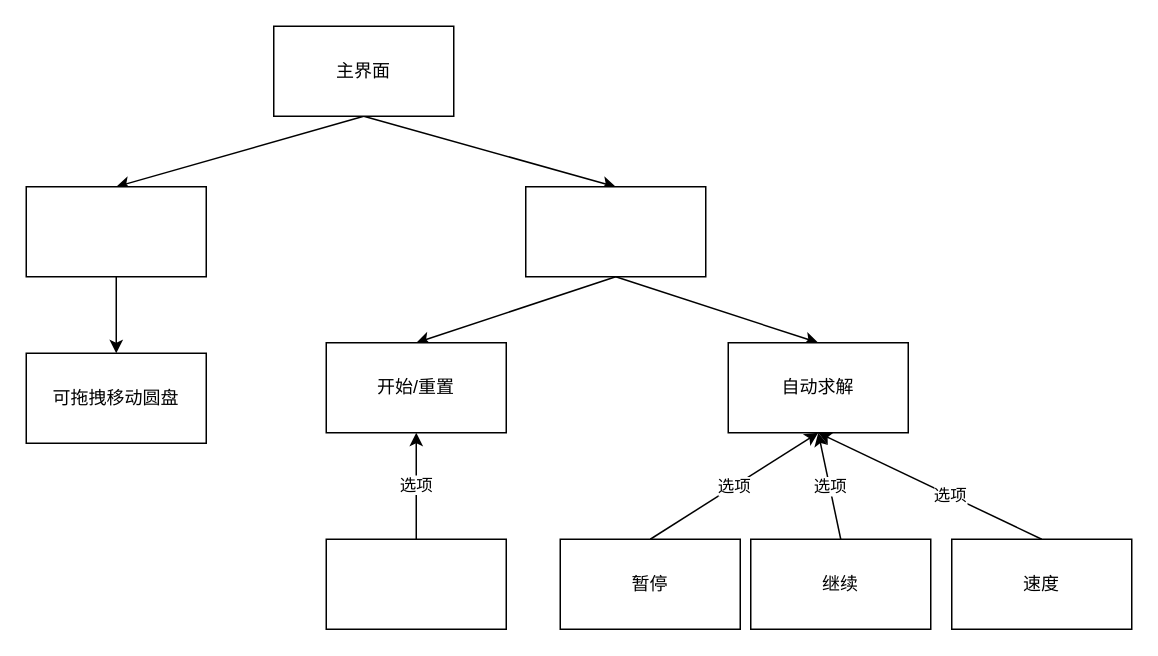
Some shapes in this 1158 by 656 pixel diagram are drawn without their labels. The shapes that lost their labels are listed below. From the top down, each one's box as (x1, y1, x2, y2) in pixels, then its label:
(25, 185, 206, 277): 汉诺塔显示区域
(524, 185, 706, 277): 菜单
(325, 538, 506, 629): 盘数
